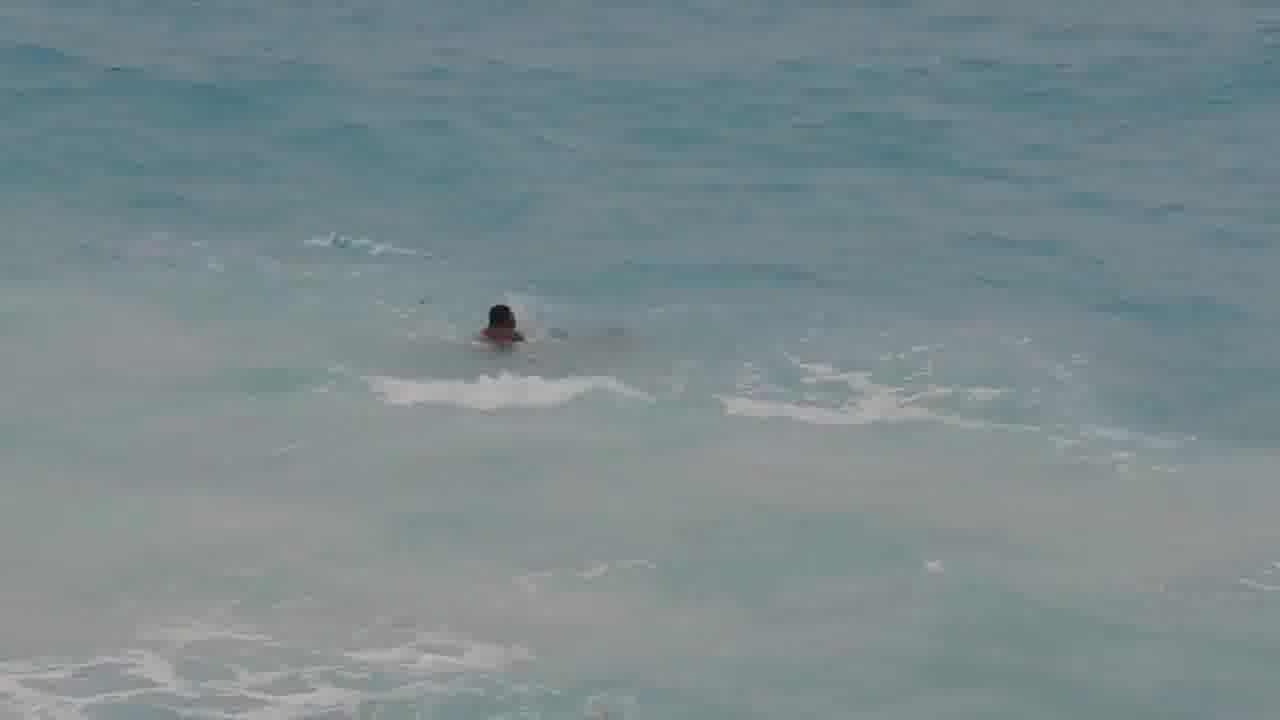swimmer: (475, 298, 526, 348)
